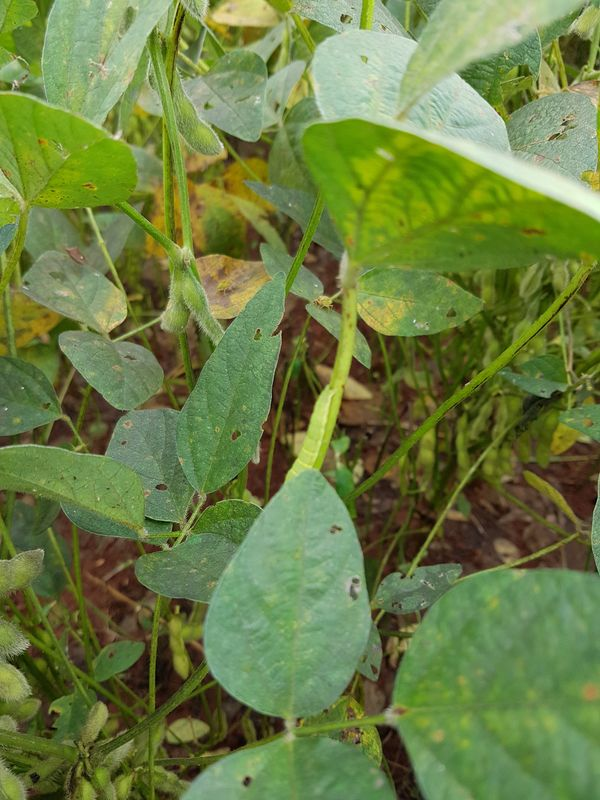Anticarsia_gemmatalis: (274, 376, 347, 503)
Euschistus_heros_adulto: (58, 240, 92, 274)
Euschistus_heros_ninfa: (310, 291, 337, 315)
